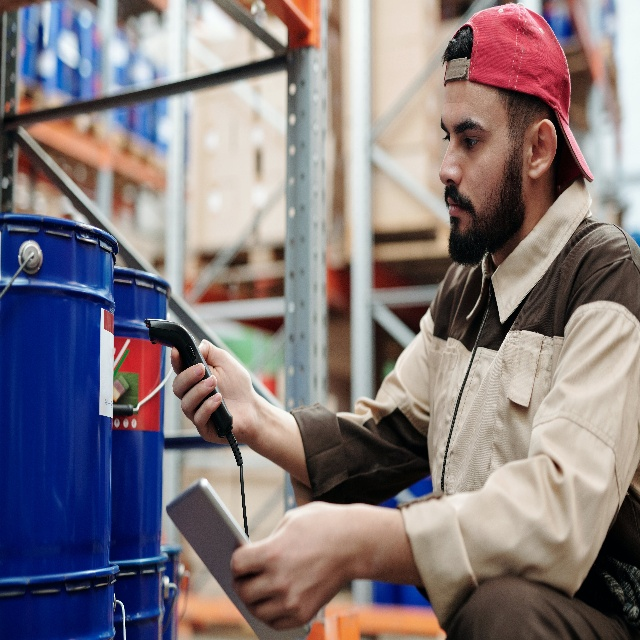Sin_guantes: (229, 498, 351, 634), (169, 337, 256, 449)
